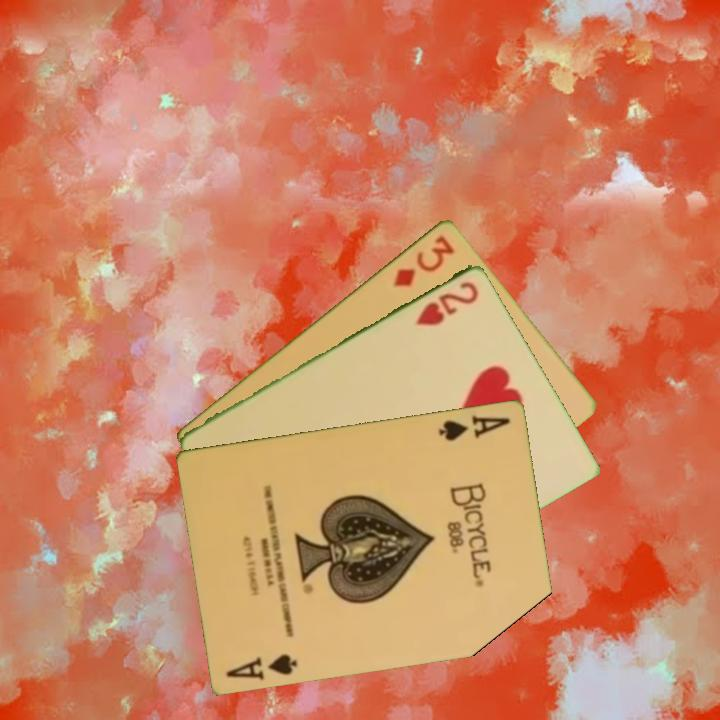2h: (411, 277, 482, 328)
3d: (389, 231, 458, 290)
As: (435, 411, 513, 444), (223, 650, 300, 683)
